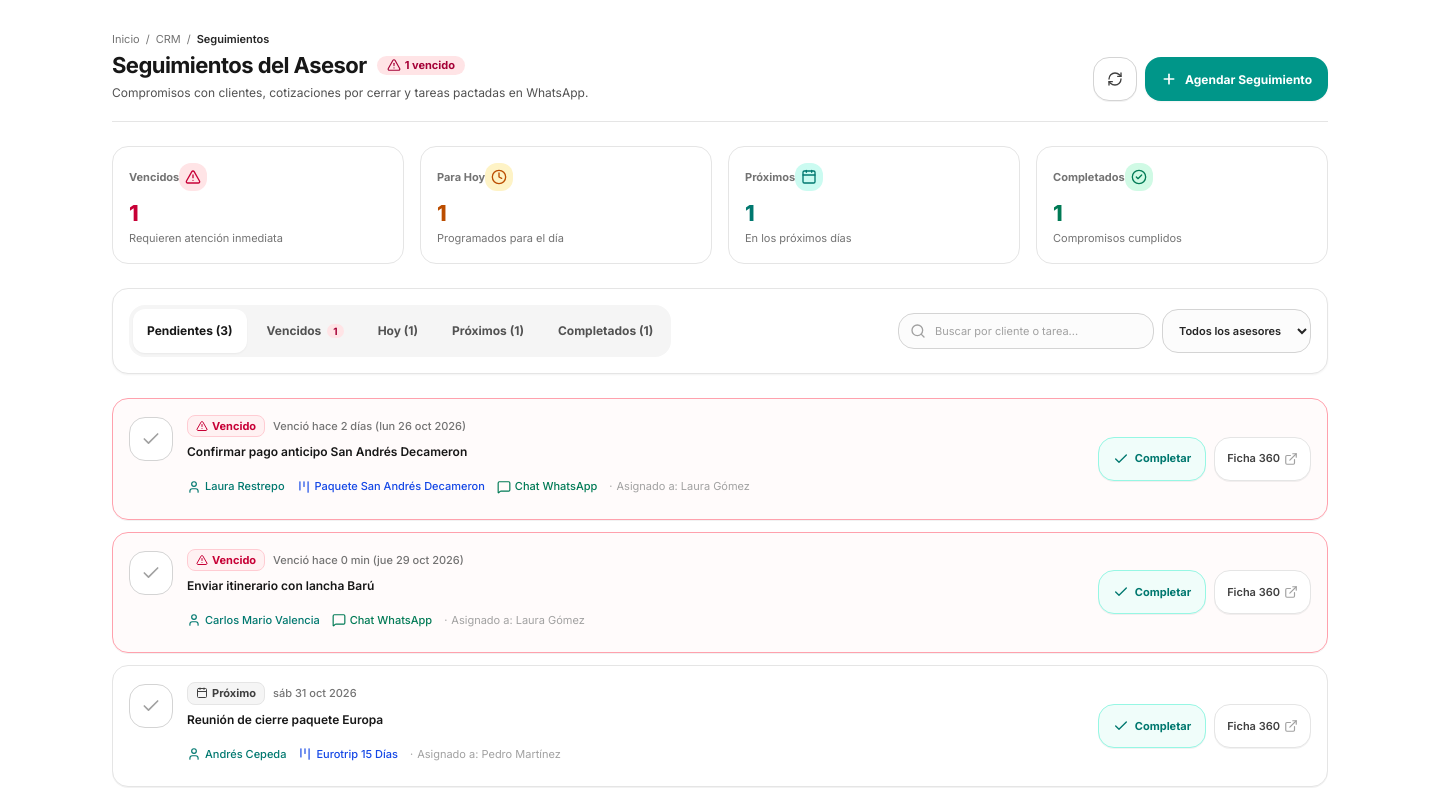
SeguimientosPage (T-101) › 5. Filtra por texto en el cuadro de búsqueda
This screenshot has width=1440, height=810.
Check: the heading "Confirmar pago anticipo San Andrés Decameron" is shown, box [187,444,467,460]
Type "Barú" into the field with test id "input-busqueda-seguimientos" at (1026, 331), box [898,313,1154,349]
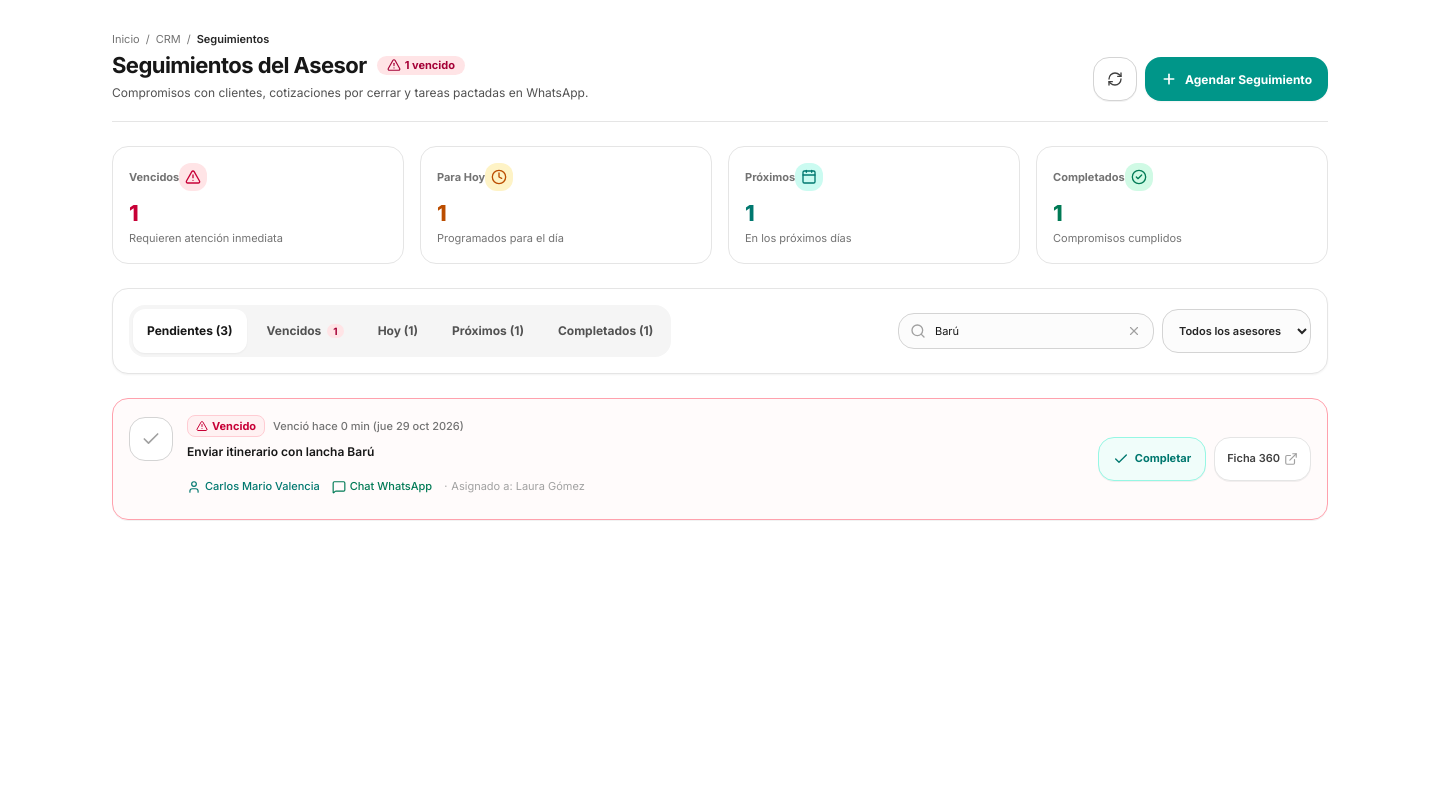
Check: the heading "Enviar itinerario con lancha Barú" is shown, box [187,444,374,460]
Check: the heading "Confirmar pago anticipo San Andrés Decameron" is gone
